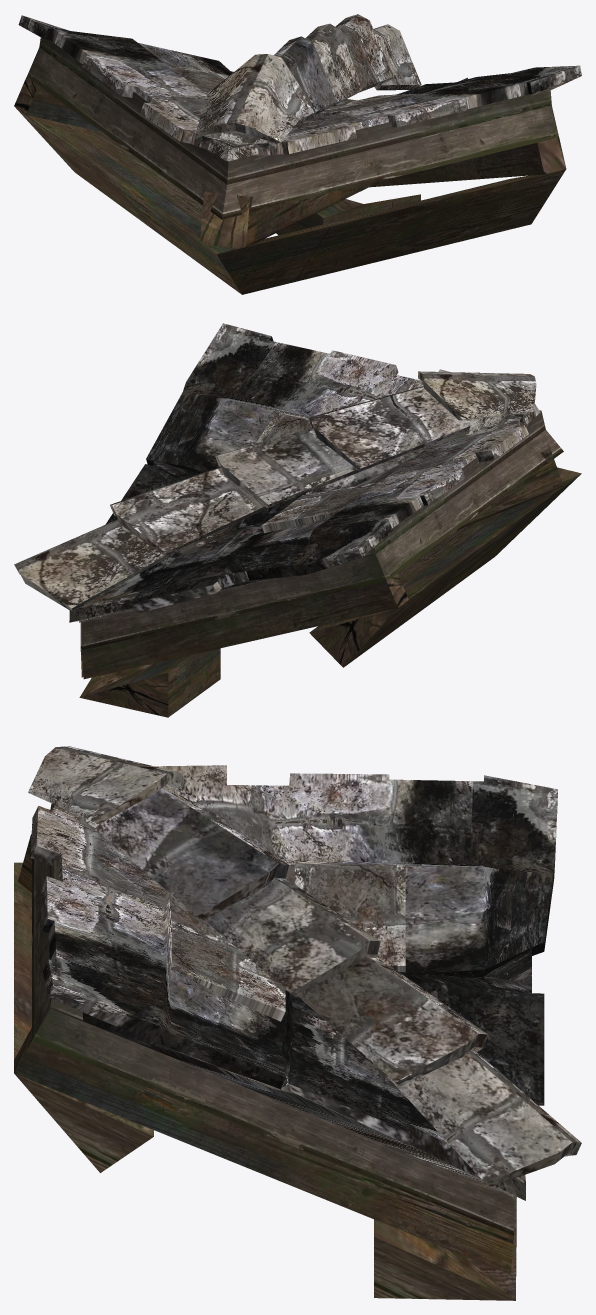
3 renders of one model, top to bottom at view 1: azimuth 30°, elevation 25°; view 2: azimuth 150°, elevation 25°; view 3: azimuth 270°, elevation 25°, orthographic. The views are drawn at different scales.
Visible parts, largest first — view 1: SM_T3_Roof_Med_Valley_Shallow_LOD0; view 2: SM_T3_Roof_Med_Valley_Shallow_LOD0; view 3: SM_T3_Roof_Med_Valley_Shallow_LOD0.
Boxes of the visible parts, x1,y1,x2,y2 form: SM_T3_Roof_Med_Valley_Shallow_LOD0: (14,14,581,294); SM_T3_Roof_Med_Valley_Shallow_LOD0: (14,323,581,717); SM_T3_Roof_Med_Valley_Shallow_LOD0: (14,746,581,1300).
Size of the model in its own units: 1.9 by 1.4 by 1.87.
Materials: 3 (3 with a texture image).
